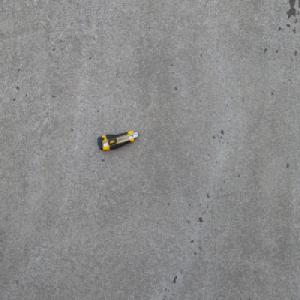Cutter: (96, 130, 138, 150)
